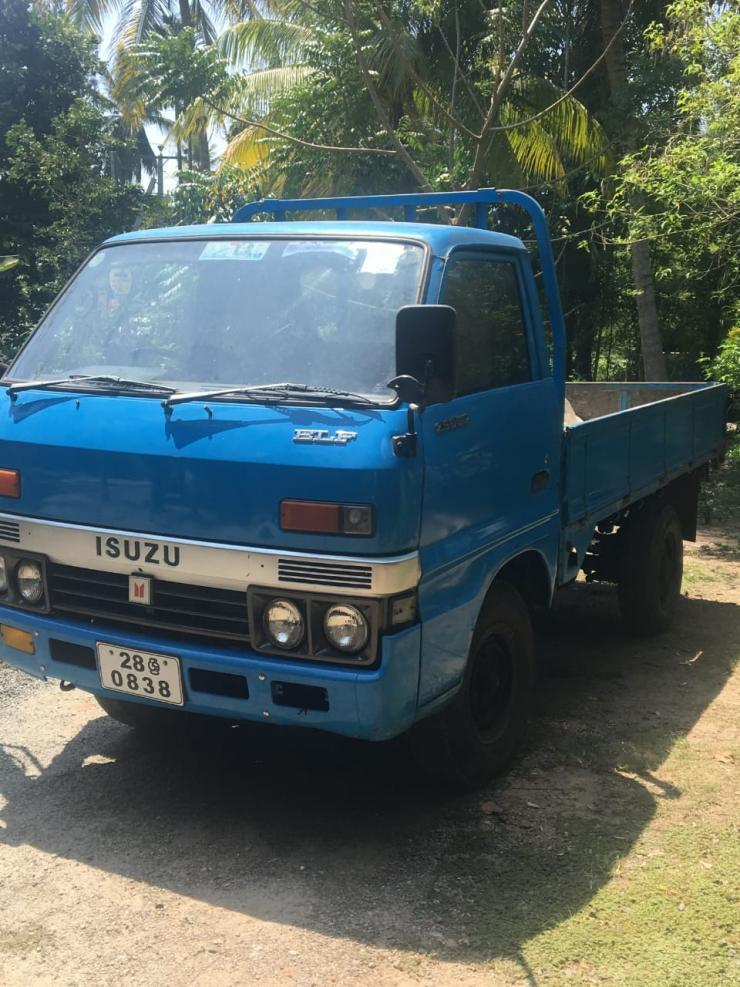truck: (1, 187, 731, 783)
